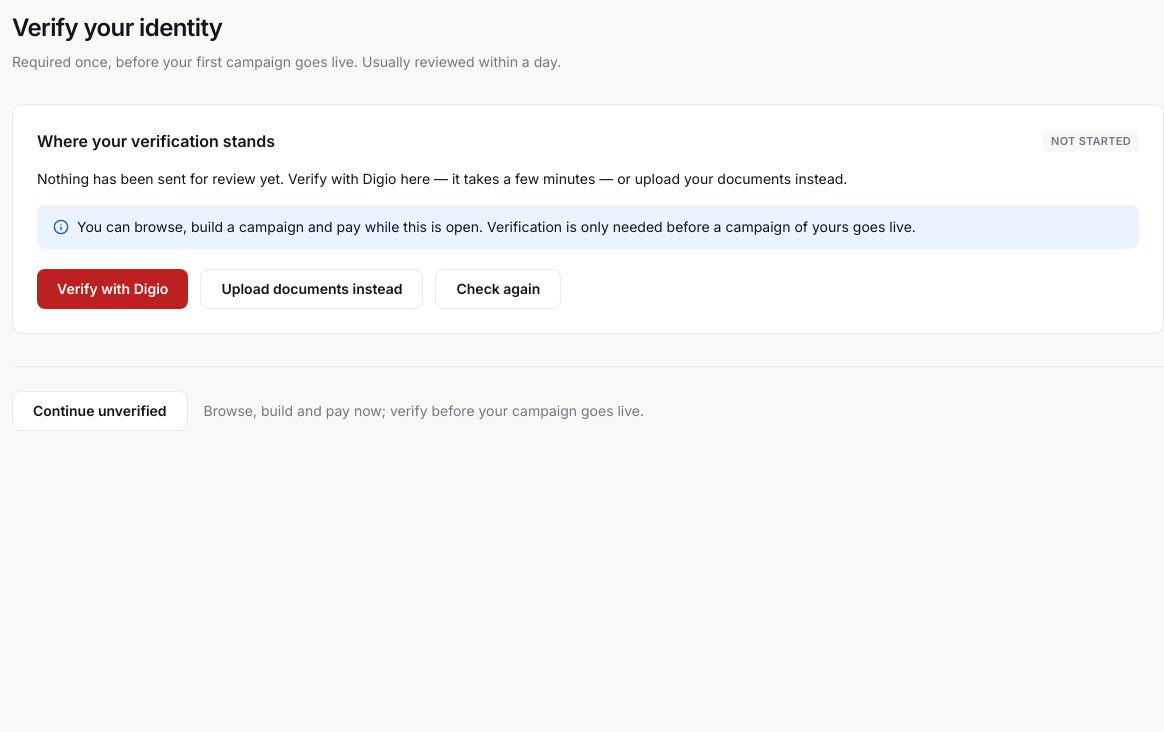
Scenario: the picker on the Digio door › asks before Digio starts when the account has no legal form — a business pays first and is asked only here
Click the button "Verify with Digio": (113, 289) [37,269,188,309]
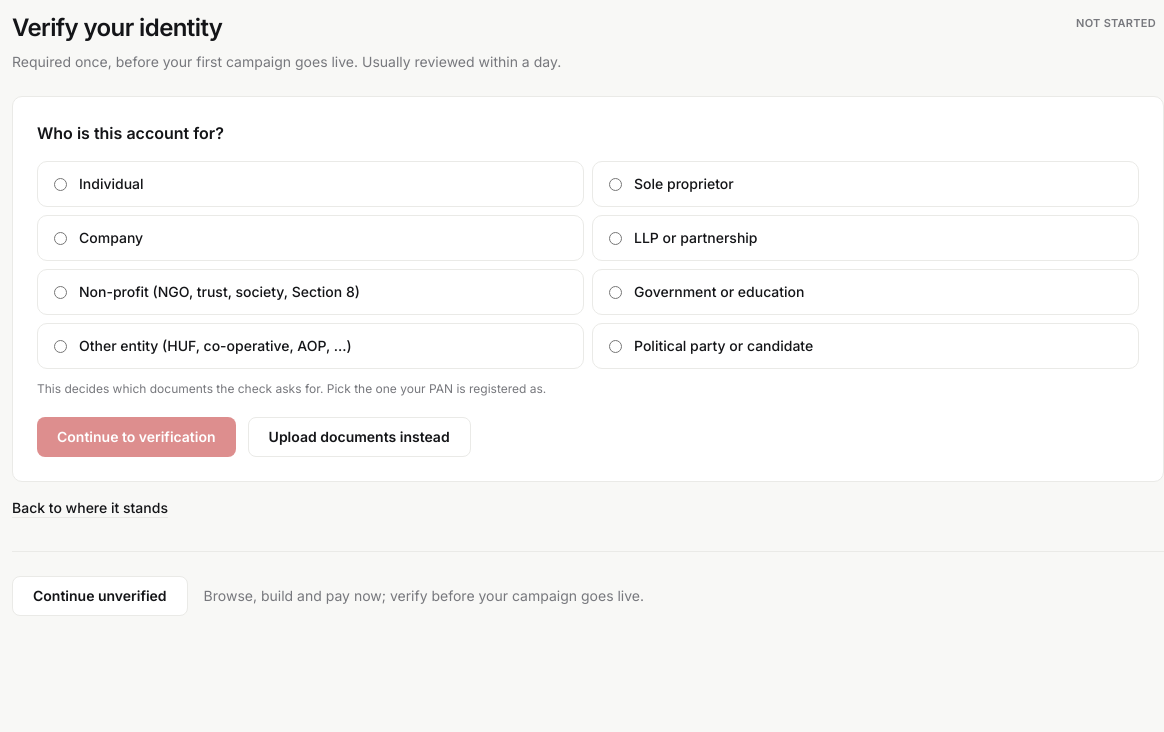
Expected: the button "Upload documents instead" is shown, [248,417,471,457]
Expected: the element "Who is this account for?" is shown, [37,121,1139,369]
Expected: the number of radio buttons is 8
Click the radio button labelled "Company": (60, 238) [54,232,67,244]
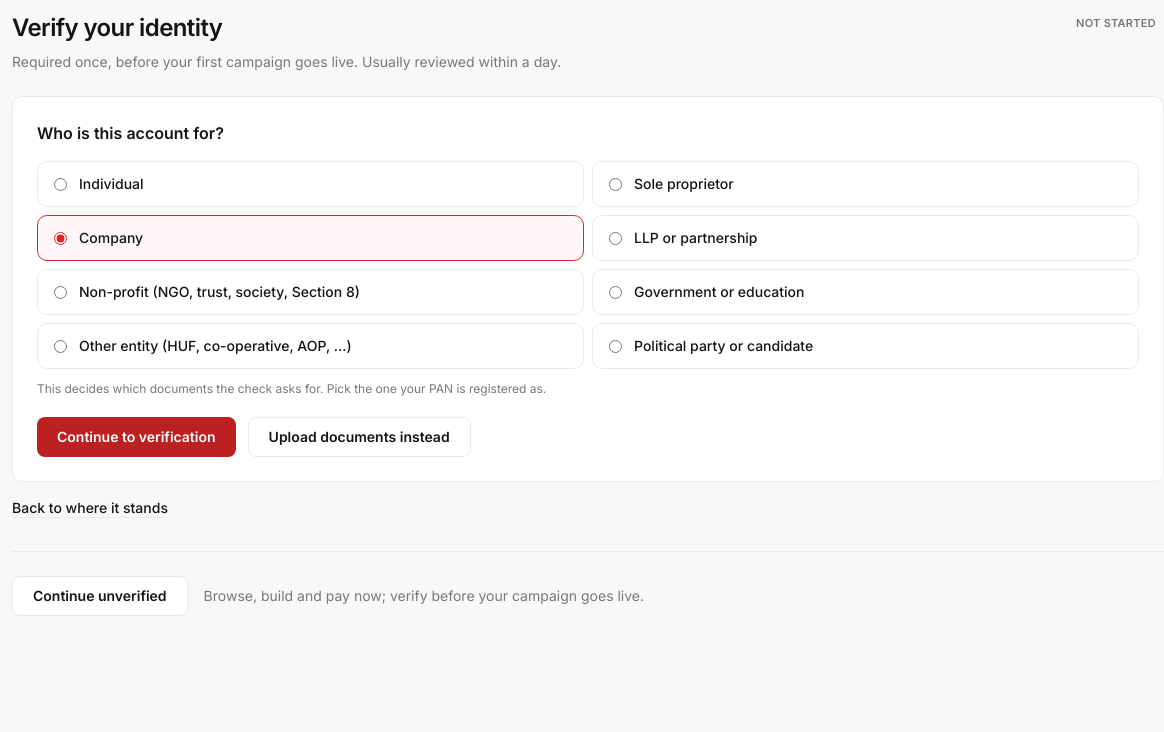
Click the button "Continue to verification": (136, 437) [37,417,236,457]
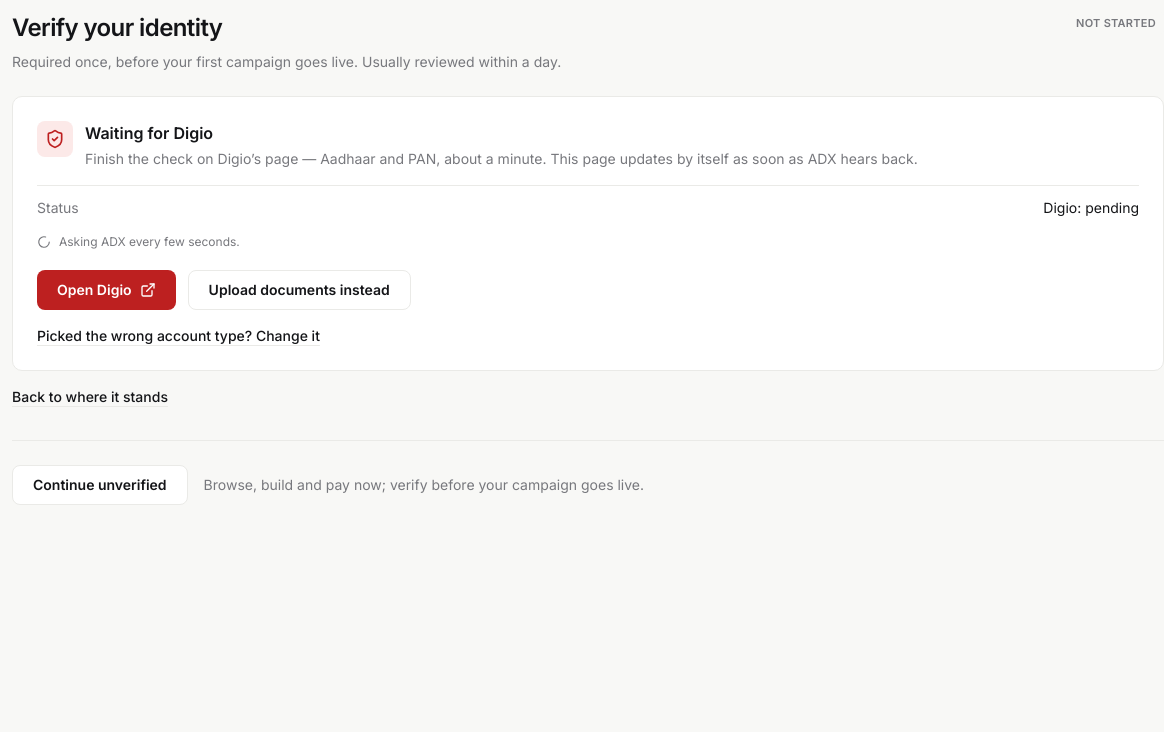
Expected: the heading "Waiting for Digio" is shown, [85,123,213,143]
